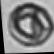correct: (6, 2, 54, 49)
